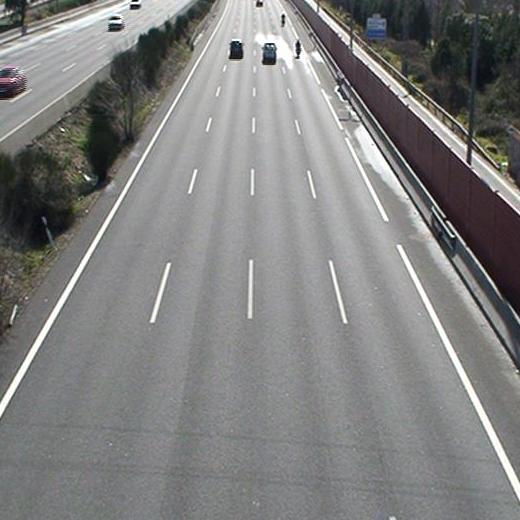car: (228, 37, 243, 59), (262, 43, 276, 64)
motorcycle: (294, 38, 302, 59), (280, 13, 286, 26)
